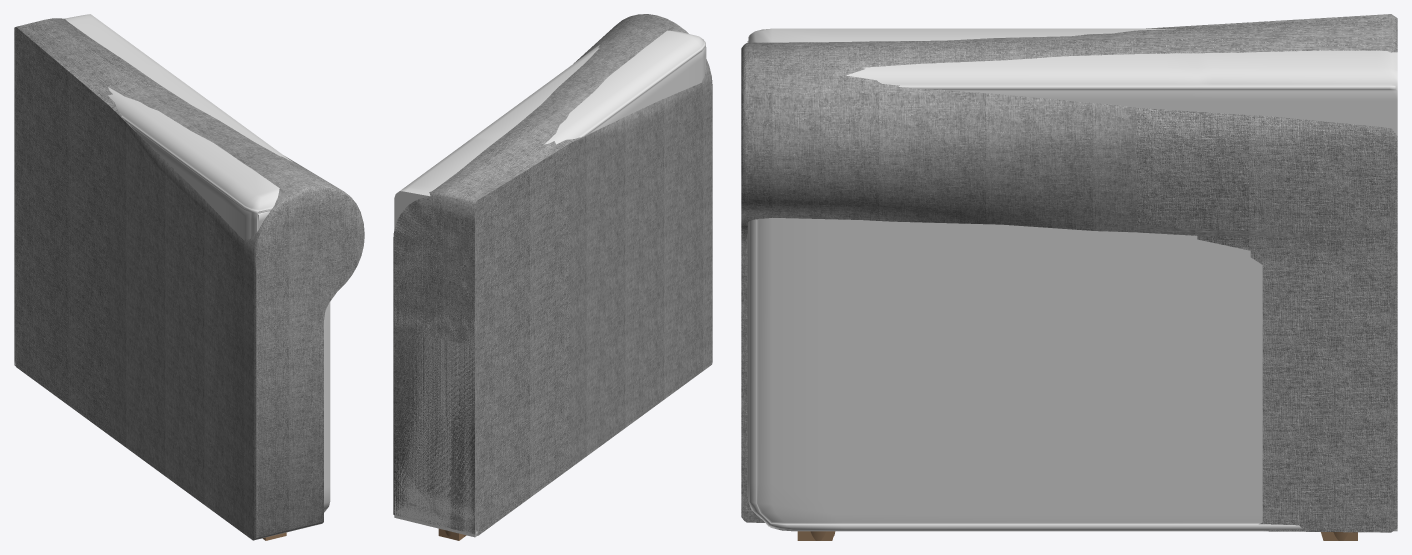
Rendered from armrestR.gltf.
The picture shows the model from 3 angles, left to right: view 1: azimuth 30°, elevation 25°; view 2: azimuth 150°, elevation 25°; view 3: azimuth 270°, elevation 25°; orthographic projection. The views are drawn at different scales.
Parts seen in each view (by area): view 1: a2, a1; view 2: a2, a1; view 3: a1, a2.
Boxes of the visible parts, <box> form: a2: <box>14,18,364,540</box>; a1: <box>14,14,330,512</box>; a2: <box>393,14,712,540</box>; a1: <box>394,30,706,537</box>; a1: <box>747,28,1397,540</box>; a2: <box>741,14,1397,540</box>.
Bounding box in the file's own units: 0.2032 × 0.6336 × 0.7656.
4 materials, 1 textured.
